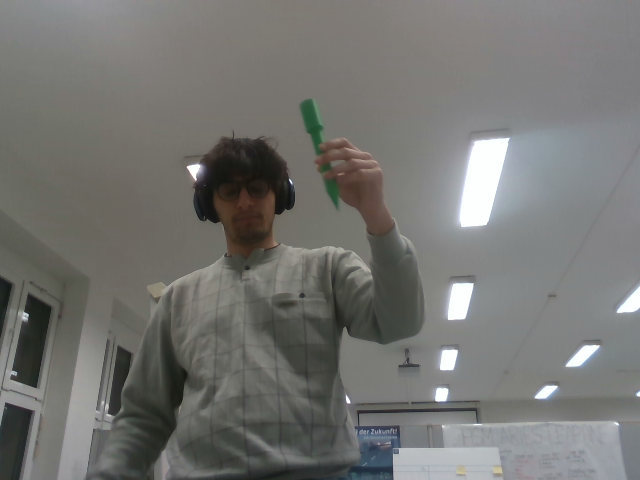Probe: (297, 95, 343, 213)
